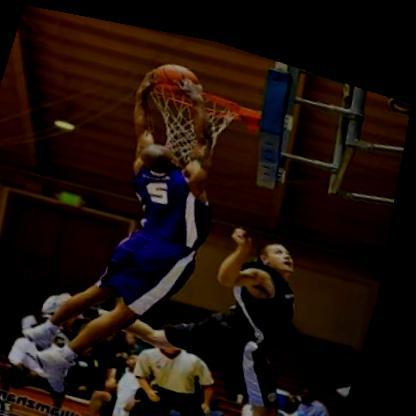basketball: (148, 46, 210, 101)
